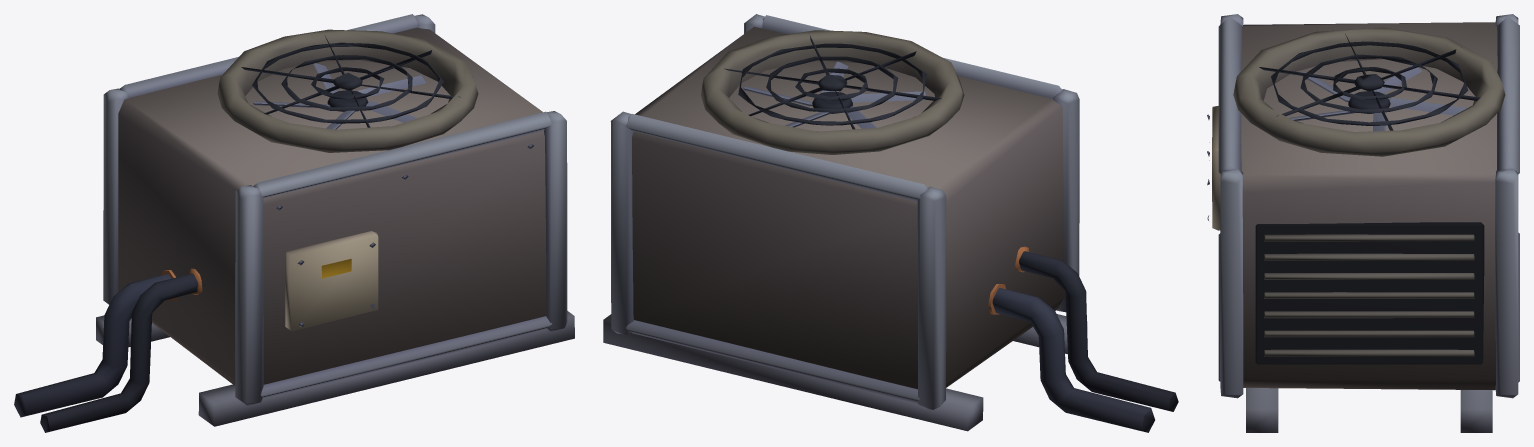
Rendered from clim.glb.
3 renders of one model, left to right at view 1: azimuth 30°, elevation 25°; view 2: azimuth 150°, elevation 25°; view 3: azimuth 270°, elevation 25°, orthographic. The views are drawn at different scales.
Visible parts, largest first — view 1: clim, helice; view 2: clim, helice; view 3: clim, helice.
Boxes of the visible parts, x1,y1,x2,y2 form: clim: (14, 14, 574, 432); helice: (253, 63, 425, 129); clim: (603, 14, 1178, 432); helice: (743, 61, 925, 128); clim: (1207, 14, 1519, 432); helice: (1289, 65, 1466, 131).
Size of the model in its own units: 1.94 by 1.02 by 1.04.
